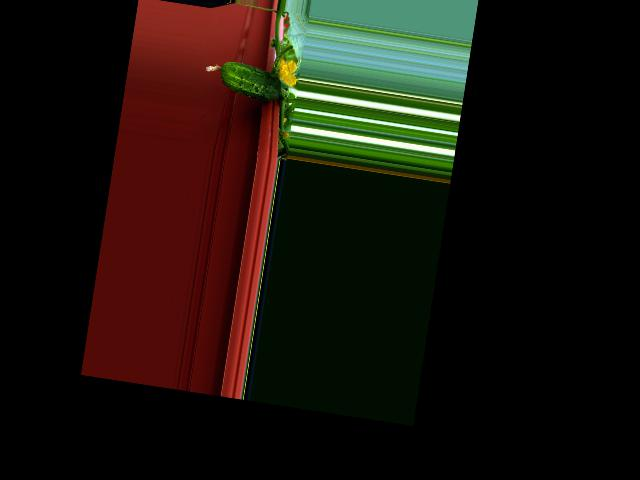cucumber: (201, 57, 284, 102)
